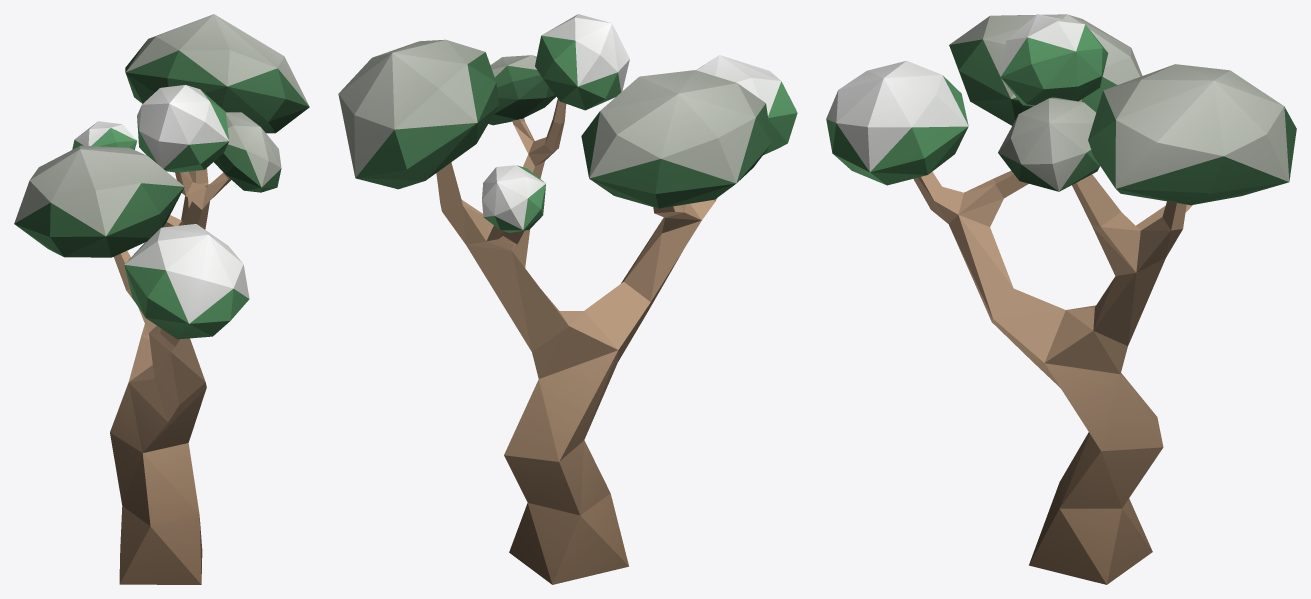
File: SnowTree4.fbx
3 views of the same model, side by side, from view 1: azimuth 30°, elevation 25°; view 2: azimuth 150°, elevation 25°; view 3: azimuth 270°, elevation 25° (orthographic). The views are drawn at different scales.
Visible parts, largest first — view 1: SnowTree4; view 2: SnowTree4; view 3: SnowTree4.
Part boxes in pixels (bbox=[...]): SnowTree4: bbox=[14, 14, 309, 584]; SnowTree4: bbox=[338, 14, 797, 584]; SnowTree4: bbox=[826, 14, 1296, 584].
Bounding box in the file's own units: 285 × 429 × 337.
